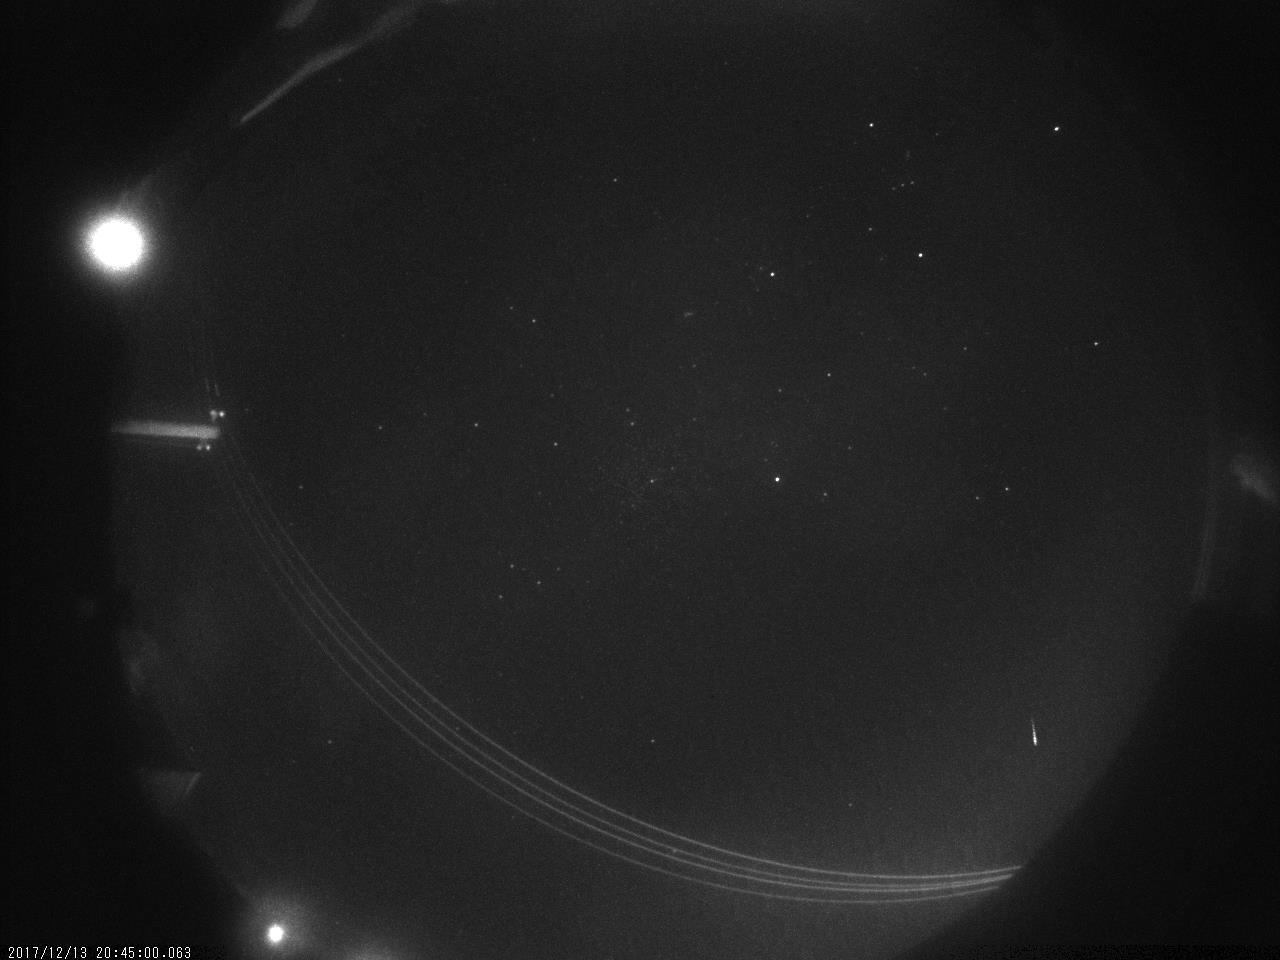Meteor: (1025, 711, 1041, 751)
